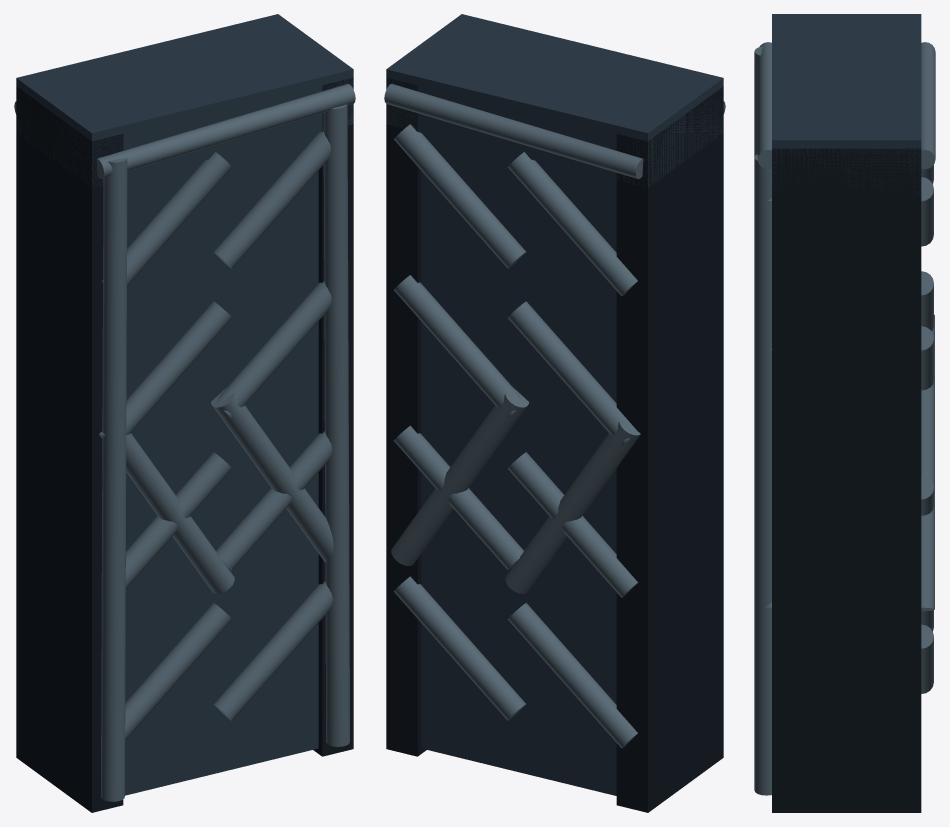
File: CMU3DHiveDoorXenoResinQueen.glb
The picture shows the model from 3 angles, left to right: view 1: azimuth 30°, elevation 25°; view 2: azimuth 150°, elevation 25°; view 3: azimuth 270°, elevation 25°; orthographic projection.
Parts seen in each view (by area): view 1: retracting organic leaf (×2), solid resin jamb (×2), jamb tendon (×2), leaf sweeping tendon (×8), resin lintel, branching membrane seam (×2), lintel rib; view 2: solid resin jamb (×2), retracting organic leaf (×2), leaf sweeping tendon (×8), resin lintel, branching membrane seam (×2), lintel rib; view 3: solid resin jamb, resin lintel, jamb tendon (×2), lintel rib (×2), leaf sweeping tendon (×5), branching membrane seam.
Part boxes in pixels (<box>): retracting organic leaf (×2): <box>125,133,318,795</box>; solid resin jamb (×2): <box>16,77,353,812</box>; jamb tendon (×2): <box>101,104,349,801</box>; leaf sweeping tendon (×8): <box>102,131,332,740</box>; resin lintel: <box>16,14,353,187</box>; branching membrane seam (×2): <box>99,387,333,593</box>; lintel rib: <box>96,84,355,178</box>; solid resin jamb (×2): <box>386,78,723,812</box>; retracting organic leaf (×2): <box>421,133,616,795</box>; leaf sweeping tendon (×8): <box>394,124,637,748</box>; resin lintel: <box>386,14,723,187</box>; branching membrane seam (×2): <box>391,387,640,593</box>; lintel rib: <box>384,84,643,178</box>; solid resin jamb: <box>772,148,921,812</box>; resin lintel: <box>772,14,921,194</box>; jamb tendon (×2): <box>754,46,771,795</box>; lintel rib (×2): <box>757,42,935,169</box>; leaf sweeping tendon (×5): <box>921,177,933,693</box>; branching membrane seam: <box>921,369,934,611</box>.
Bounding box in the file's own units: 1 × 2.48 × 0.605.
